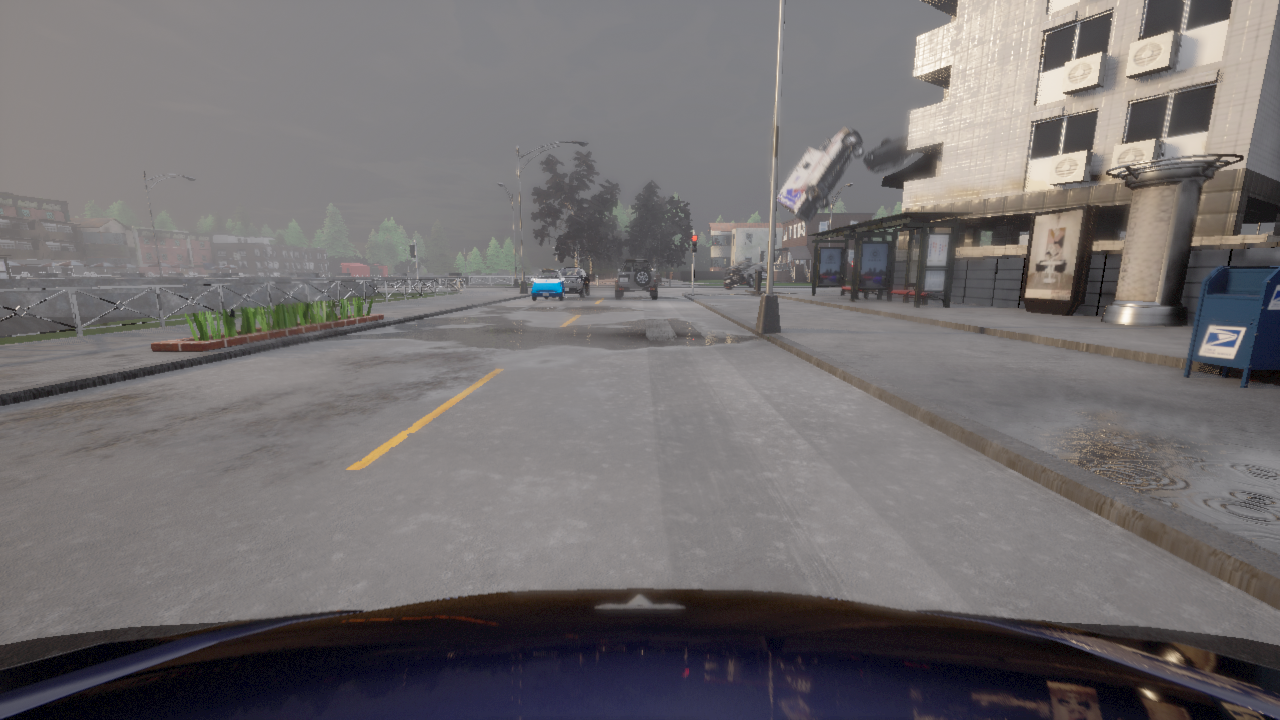cyclist: (0, 588, 1279, 719), (777, 127, 864, 225), (863, 135, 915, 172), (615, 259, 657, 299), (723, 259, 766, 289), (531, 269, 564, 300), (559, 267, 589, 297)
